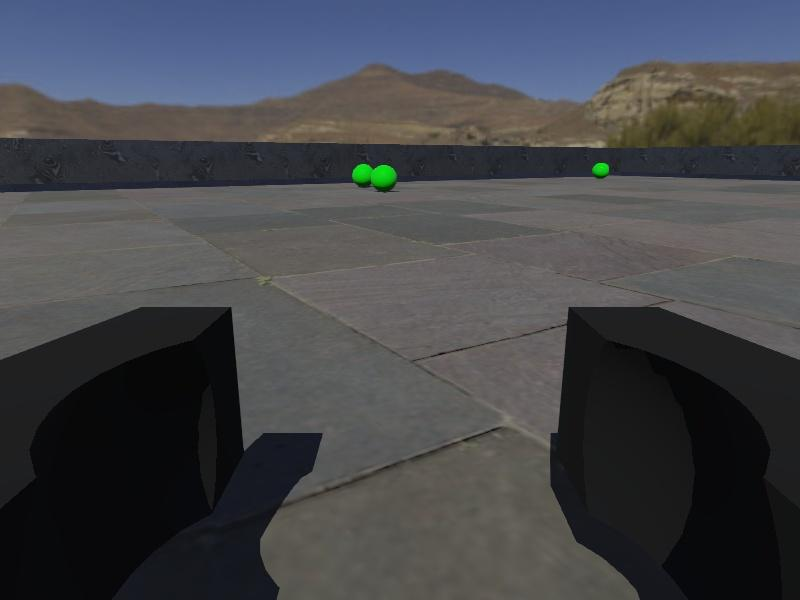green ball: (370, 163, 398, 194), (592, 160, 611, 179)
